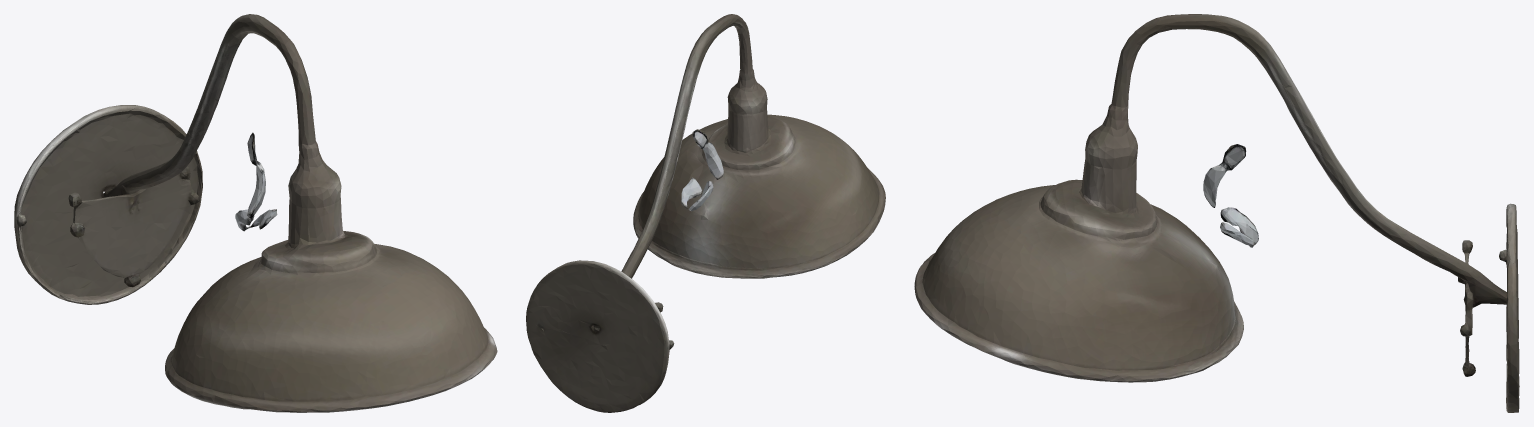
Rendered from ast_dec6af78617b.glb.
3 views of the same model, side by side, from view 1: azimuth 30°, elevation 25°; view 2: azimuth 150°, elevation 25°; view 3: azimuth 270°, elevation 25° (orthographic). The views are drawn at different scales.
Visible parts, largest first — view 1: geometry_0; view 2: geometry_0; view 3: geometry_0.
Boxes of the visible parts, <box> form: geometry_0: <box>14,14,497,412</box>; geometry_0: <box>526,14,885,412</box>; geometry_0: <box>914,14,1519,412</box>.
Size of the model in its own units: 0.5285 by 0.6928 by 0.9736.
1 material, 1 textured.
